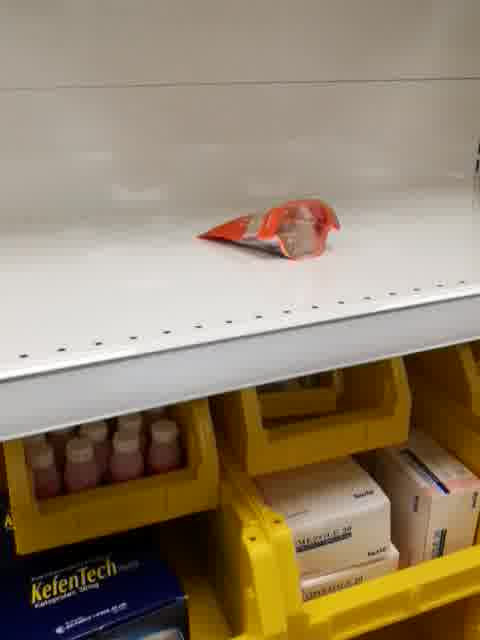whitechia: (196, 196, 343, 262)
